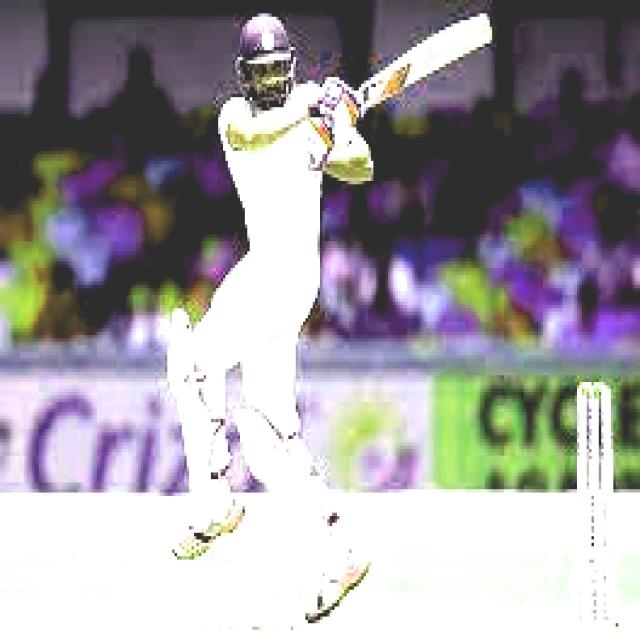toe: (472, 8, 493, 52)
